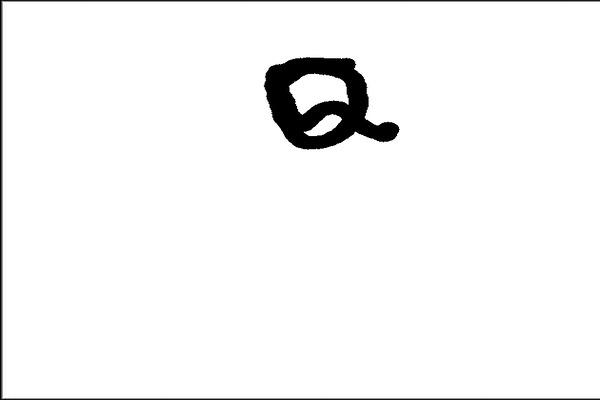Q: (257, 48, 403, 155)
